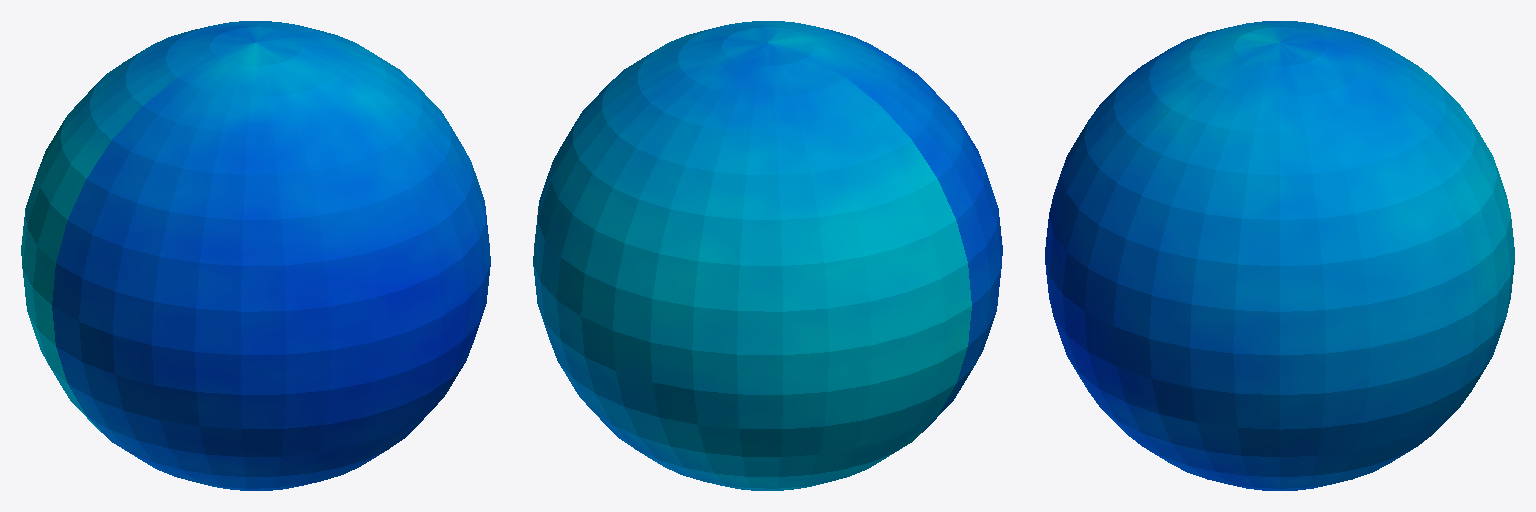
The picture shows the model from 3 angles: view 1: azimuth 30°, elevation 25°; view 2: azimuth 150°, elevation 25°; view 3: azimuth 270°, elevation 25°; orthographic projection.
Visible parts, largest first — view 1: 球.001; view 2: 球.001; view 3: 球.001.
Boxes of the visible parts, x1=… form: 球.001: x1=21, y1=21, x2=490, y2=490; 球.001: x1=533, y1=21, x2=1002, y2=490; 球.001: x1=1045, y1=21, x2=1514, y2=490.
Size of the model in its own units: 600 by 600 by 600.
Materials: 1 (1 with a texture image).